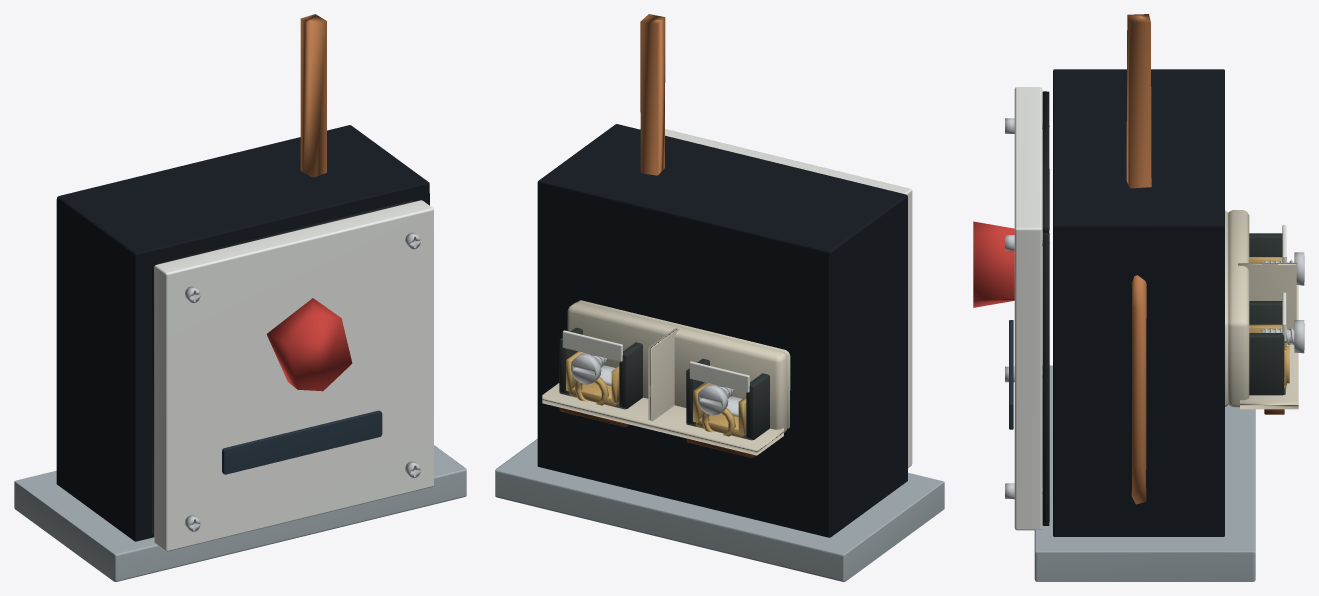
File: cutout_default.low.glb
3 renders of one model, left to right at view 1: azimuth 30°, elevation 25°; view 2: azimuth 150°, elevation 25°; view 3: azimuth 270°, elevation 25°, orthographic. The views are drawn at different scales.
Visible parts, largest first — view 1: part:cover, part:body, part:body.001, part:body.002 · Original db0da9ae, detail:enclosure-gasket-and-fixings · Detail rubber gasket, detail:enclosure-gasket-and-fixings · Detail zinc plated fix; view 2: part:body, part:terminals · Original 5a609f27, part:body.002 · Original db0da9ae, part:cover, detail:terminal-clamp:COM · Detail moulded engineering polym, detail:terminal-clamp:OUT · Detail moulded engineering polym, detail:terminal-clamp:COM · Detail machined brass, detail:terminal-clamp:OUT · Detail machined brass, Moulded terminal legend pad, Moulded terminal legend pad.001, detail:terminal-clamp:COM · Detail zinc plated fixing, detail:terminal-clamp:OUT · Detail zinc plated fixing; view 3: part:body, part:cover, part:terminals · Original 5a609f27, part:body.002 · Original db0da9ae, detail:enclosure-gasket-and-fixings · Detail rubber gasket, part:body.001, detail:terminal-clamp:OUT · Detail moulded engineering polym, detail:terminal-clamp:COM · Detail moulded engineering polym, detail:enclosure-gasket-and-fixings · Detail zinc plated fix, detail:terminal-clamp:OUT · Detail zinc plated fixing, detail:terminal-clamp:OUT · Detail machined brass.
Boxes of the visible parts, bbox=[...] form: part:cover: bbox=[154, 200, 433, 551]; part:body: bbox=[14, 125, 466, 581]; part:body.001: bbox=[267, 298, 352, 391]; part:body.002 · Original db0da9ae: bbox=[300, 14, 326, 177]; detail:enclosure-gasket-and-fixings · Detail rubber gasket: bbox=[152, 200, 414, 534]; detail:enclosure-gasket-and-fixings · Detail zinc plated fix: bbox=[184, 232, 420, 531]; part:body: bbox=[495, 124, 944, 581]; part:terminals · Original 5a609f27: bbox=[542, 300, 790, 455]; part:body.002 · Original db0da9ae: bbox=[640, 14, 665, 175]; part:cover: bbox=[640, 129, 912, 467]; detail:terminal-clamp:COM · Detail moulded engineering polym: bbox=[686, 358, 769, 440]; detail:terminal-clamp:OUT · Detail moulded engineering polym: bbox=[559, 327, 642, 409]; detail:terminal-clamp:COM · Detail machined brass: bbox=[693, 382, 746, 437]; detail:terminal-clamp:OUT · Detail machined brass: bbox=[566, 351, 619, 406]; Moulded terminal legend pad: bbox=[689, 361, 749, 392]; Moulded terminal legend pad.001: bbox=[562, 330, 622, 361]; detail:terminal-clamp:COM · Detail zinc plated fixing: bbox=[697, 384, 741, 416]; detail:terminal-clamp:OUT · Detail zinc plated fixing: bbox=[570, 353, 615, 385]; part:body: bbox=[1034, 69, 1255, 581]; part:cover: bbox=[1009, 87, 1042, 530]; part:terminals · Original 5a609f27: bbox=[1225, 210, 1298, 409]; part:body.002 · Original db0da9ae: bbox=[1126, 14, 1151, 504]; detail:enclosure-gasket-and-fixings · Detail rubber gasket: bbox=[1042, 91, 1049, 525]; part:body.001: bbox=[973, 221, 1014, 307]; detail:terminal-clamp:OUT · Detail moulded engineering polym: bbox=[1249, 301, 1285, 395]; detail:terminal-clamp:COM · Detail moulded engineering polym: bbox=[1249, 233, 1282, 256]; detail:enclosure-gasket-and-fixings · Detail zinc plated fix: bbox=[1005, 118, 1049, 499]; detail:terminal-clamp:OUT · Detail zinc plated fixing: bbox=[1261, 320, 1304, 353]; detail:terminal-clamp:OUT · Detail machined brass: bbox=[1249, 324, 1289, 388].
Bounding box in the file's own units: 0.6824 × 0.8589 × 0.508.
